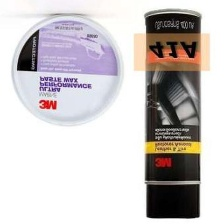aerosol_cans: (138, 5, 207, 221)
